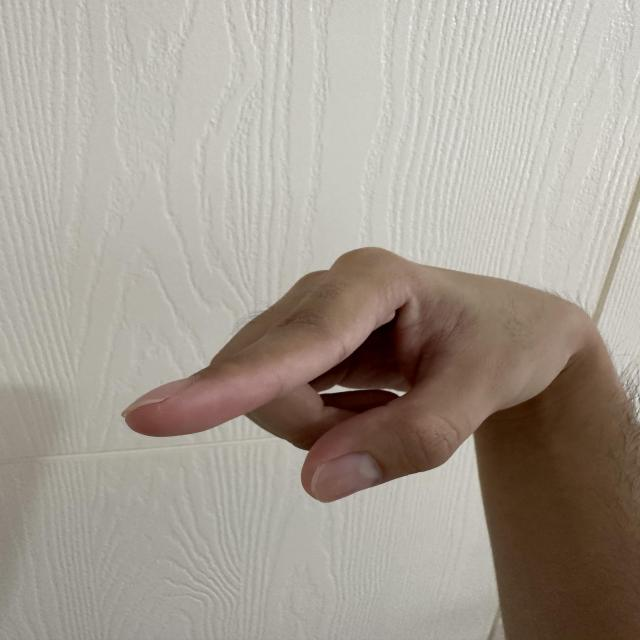Z: (118, 244, 584, 506)
